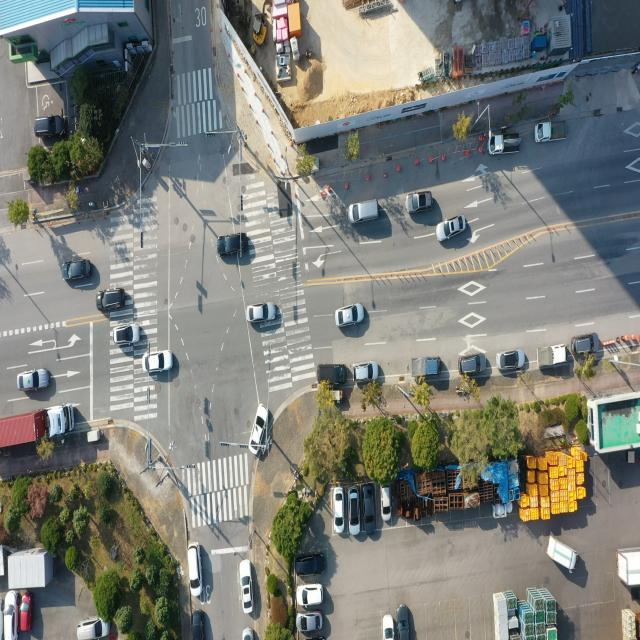car: (249, 403, 269, 454), (437, 216, 467, 244), (32, 116, 64, 142), (218, 232, 250, 258), (18, 368, 51, 393), (348, 199, 378, 225), (98, 286, 128, 312), (80, 614, 110, 640), (187, 544, 201, 598), (144, 349, 173, 375), (296, 554, 326, 579), (63, 261, 93, 285), (337, 304, 366, 328), (496, 349, 525, 373), (113, 326, 142, 350), (320, 362, 350, 385), (246, 303, 276, 325), (572, 335, 600, 358), (241, 561, 253, 614), (408, 192, 435, 215), (459, 353, 487, 375), (349, 489, 362, 536), (362, 486, 374, 536), (298, 585, 324, 608), (18, 594, 32, 635), (3, 588, 14, 640), (353, 361, 379, 382), (335, 488, 346, 533), (300, 614, 324, 634), (396, 605, 409, 640), (194, 610, 207, 640), (381, 486, 391, 521), (384, 615, 396, 640), (241, 628, 252, 640)
large_truck: (0, 406, 75, 452)
medium_truck: (617, 549, 640, 589)
small_truck: (548, 538, 578, 574), (536, 344, 569, 370), (536, 121, 569, 145), (488, 133, 522, 156), (409, 354, 441, 378)
